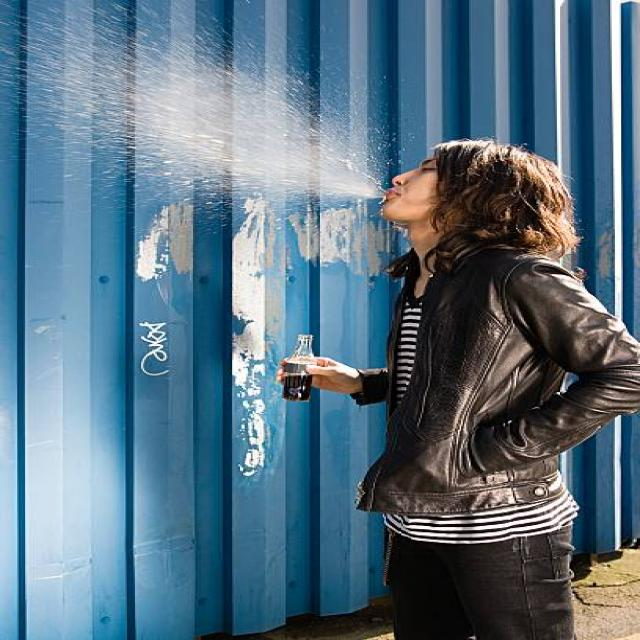Spitting: (230, 136, 582, 348)
